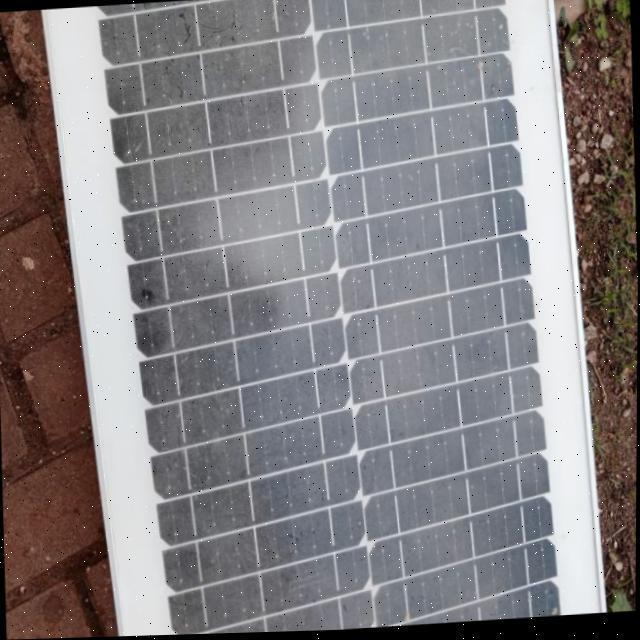Surface Contaminant: (112, 0, 554, 637)
